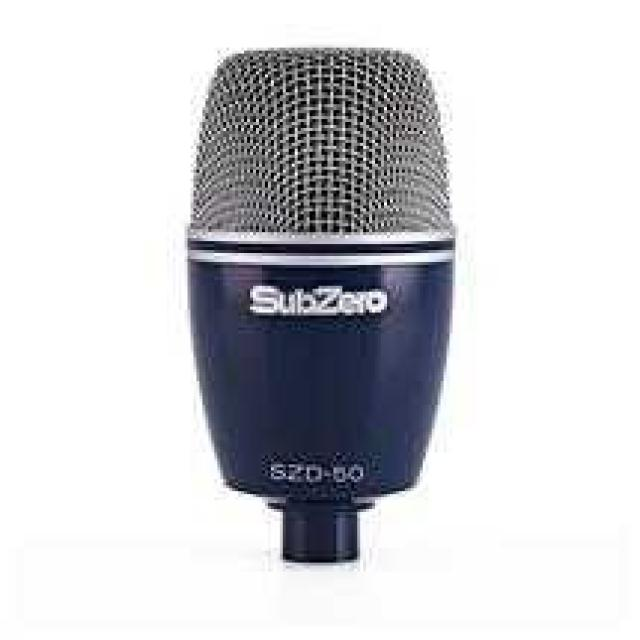microphone: (184, 47, 455, 550)
